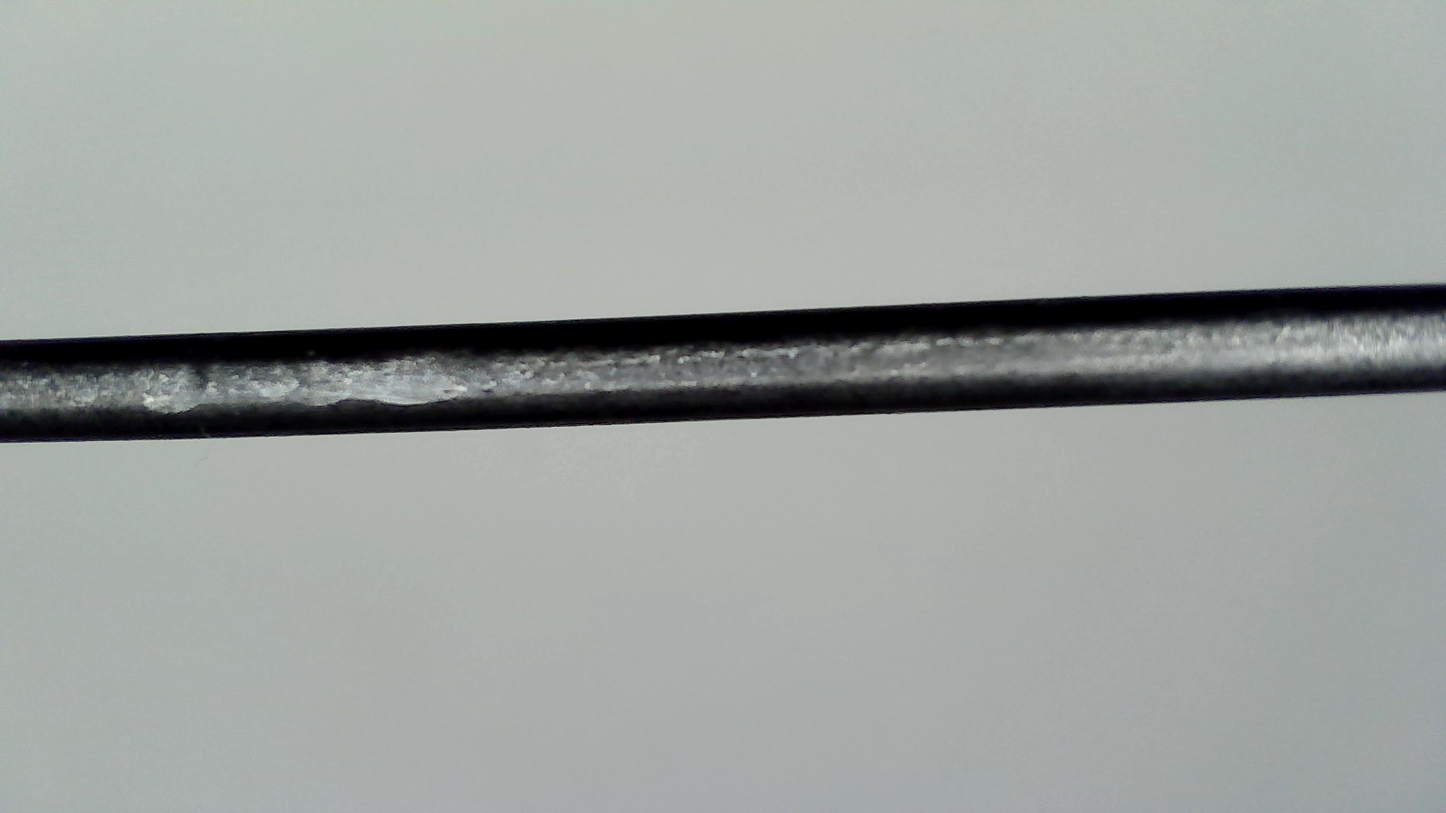defect: (125, 348, 505, 414)
